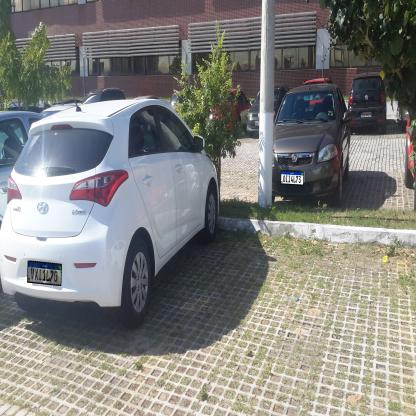PlacaM: (27, 261, 62, 286), (280, 170, 303, 186)
